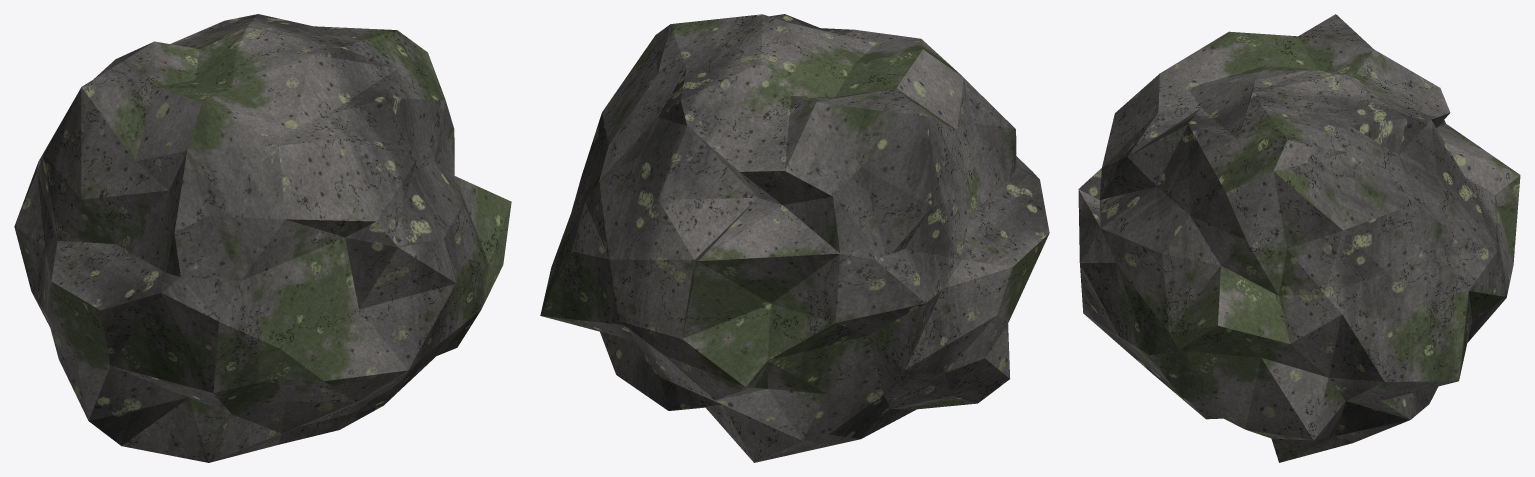
File: boulder.glb
3 views of the same model, side by side, from view 1: azimuth 30°, elevation 25°; view 2: azimuth 150°, elevation 25°; view 3: azimuth 270°, elevation 25° (orthographic). The views are drawn at different scales.
Visible parts, largest first — view 1: Boulder; view 2: Boulder; view 3: Boulder.
Part boxes in pixels (left/top/right/bottom): Boulder: left=14, top=14, right=511, bottom=462; Boulder: left=540, top=14, right=1049, bottom=462; Boulder: left=1078, top=14, right=1520, bottom=462.
Size of the model in its own units: 1.02 by 0.8844 by 0.9928.
1 material, 1 textured.
